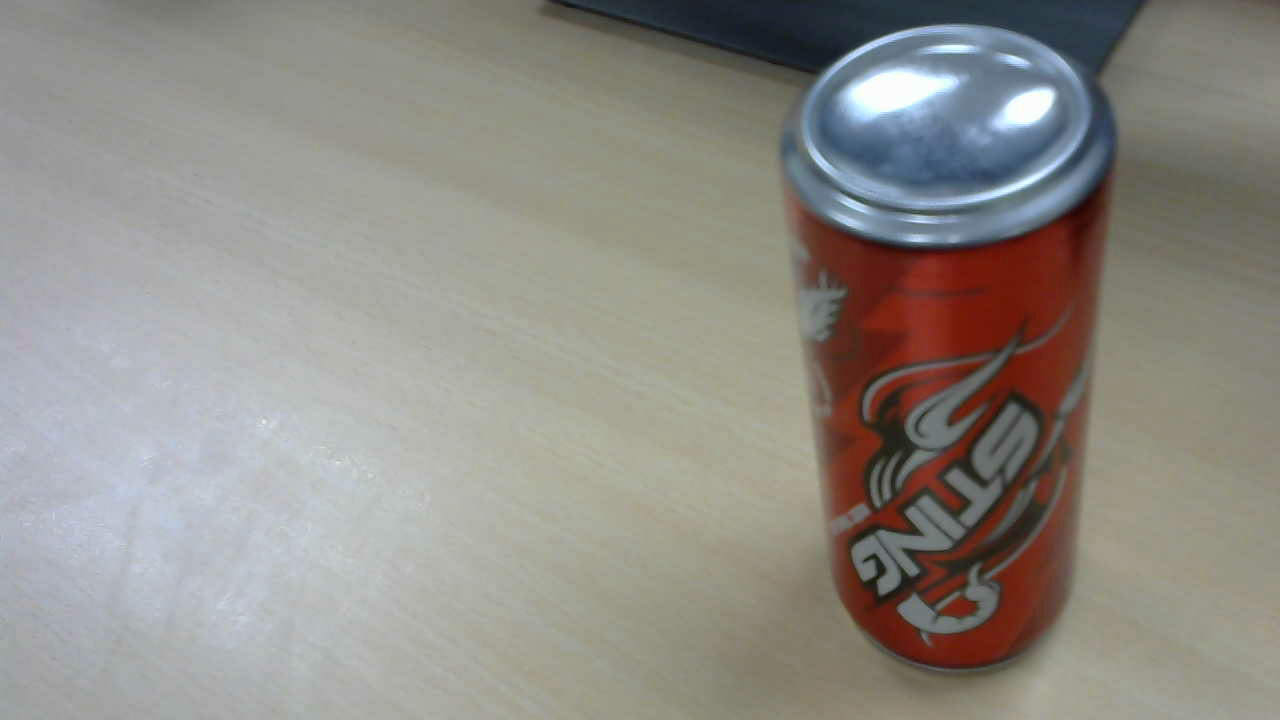Sting: (781, 26, 1122, 679)
